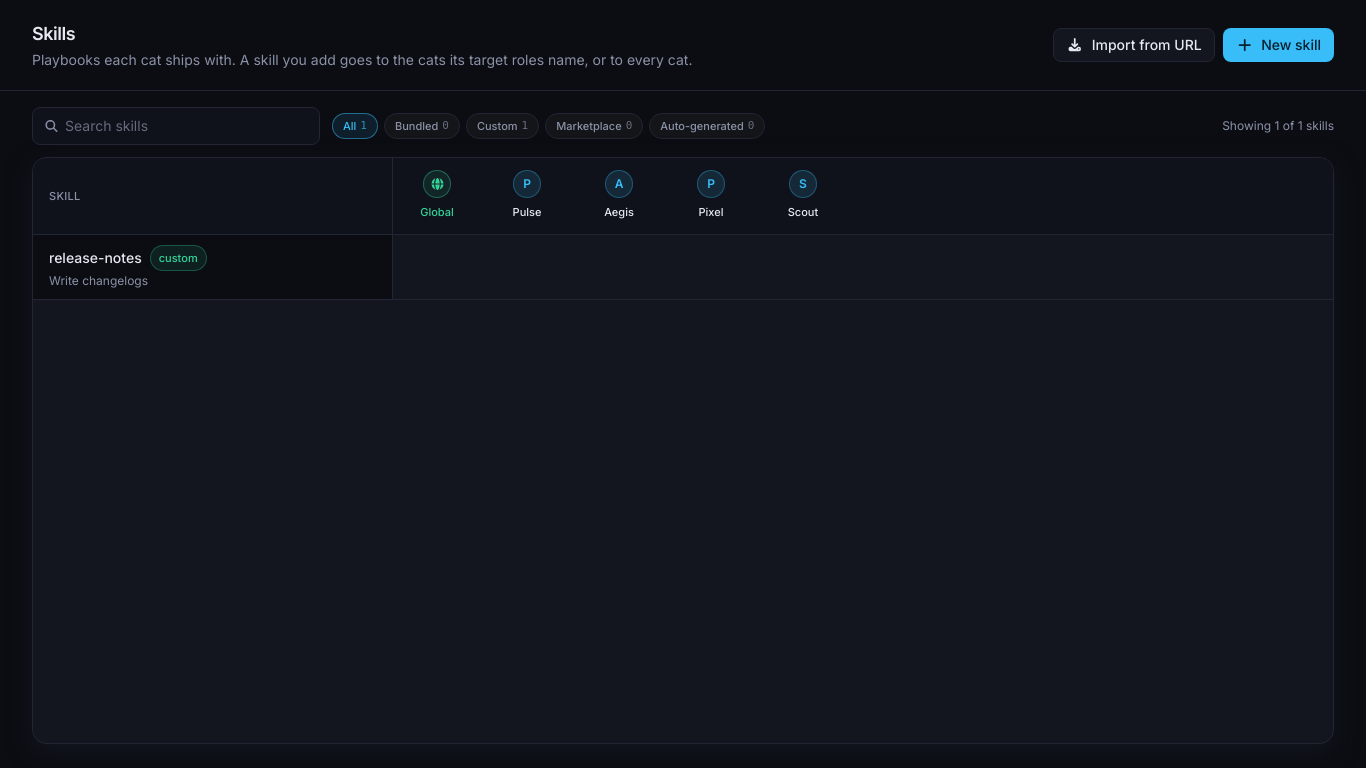
it: SkillsPage › dialogs › New skill shows the backend's error inline and stays open
expect the button with aria-label "Open release-notes" is shown: met, box x1=49 y1=245 x2=376 y2=289
Click the button "New skill" at (1278, 45), box x1=1223 y1=28 x2=1334 y2=62
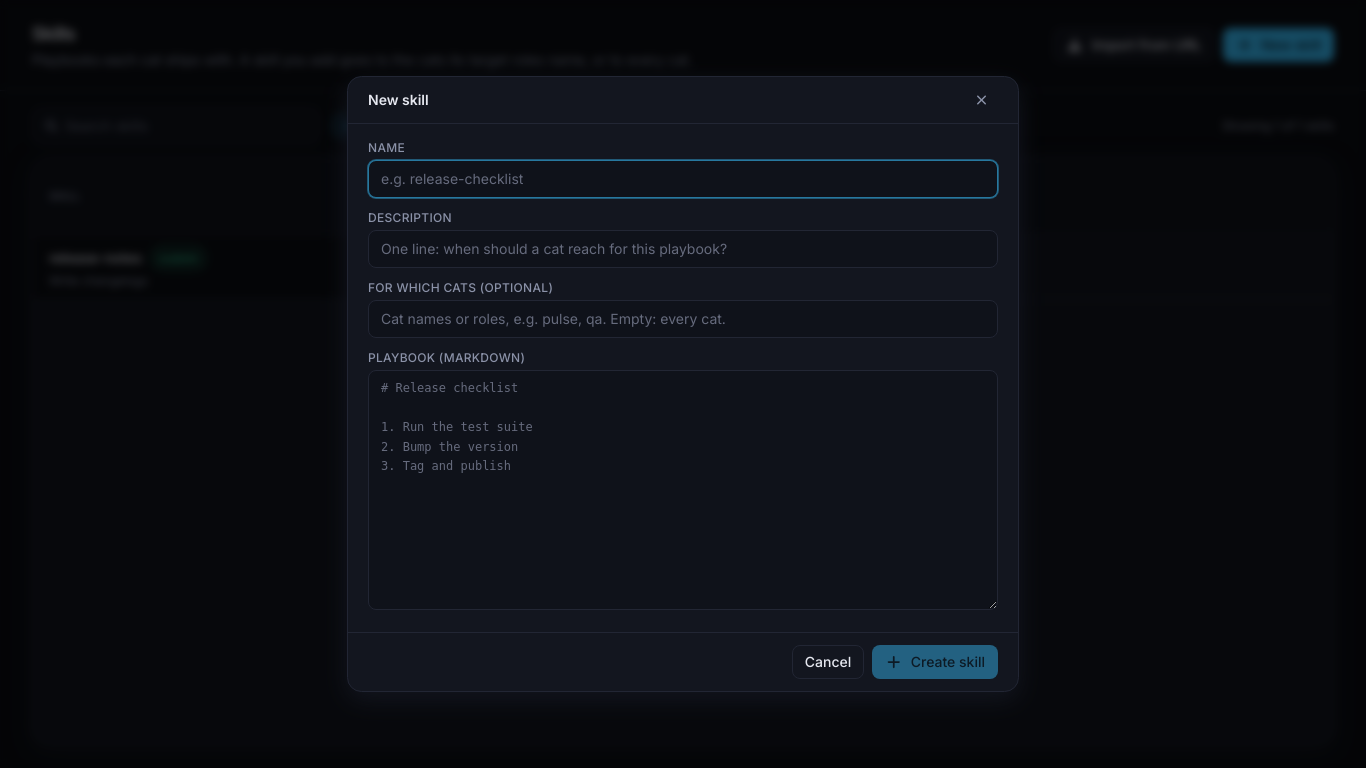
Type "release-notes" into the field labelled "Name" at (683, 179), box x1=368 y1=160 x2=998 y2=198
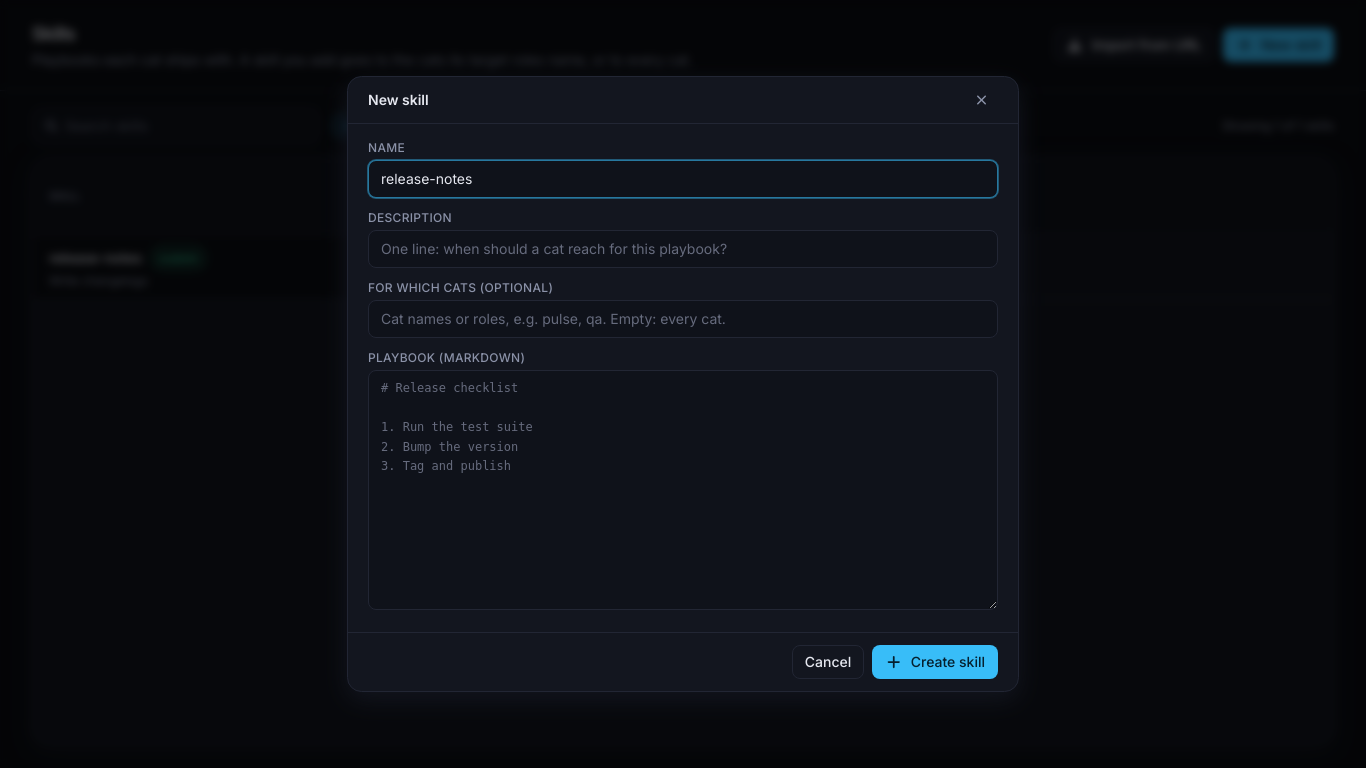
Click the button "Create skill" at (935, 662), box x1=872 y1=645 x2=998 y2=679
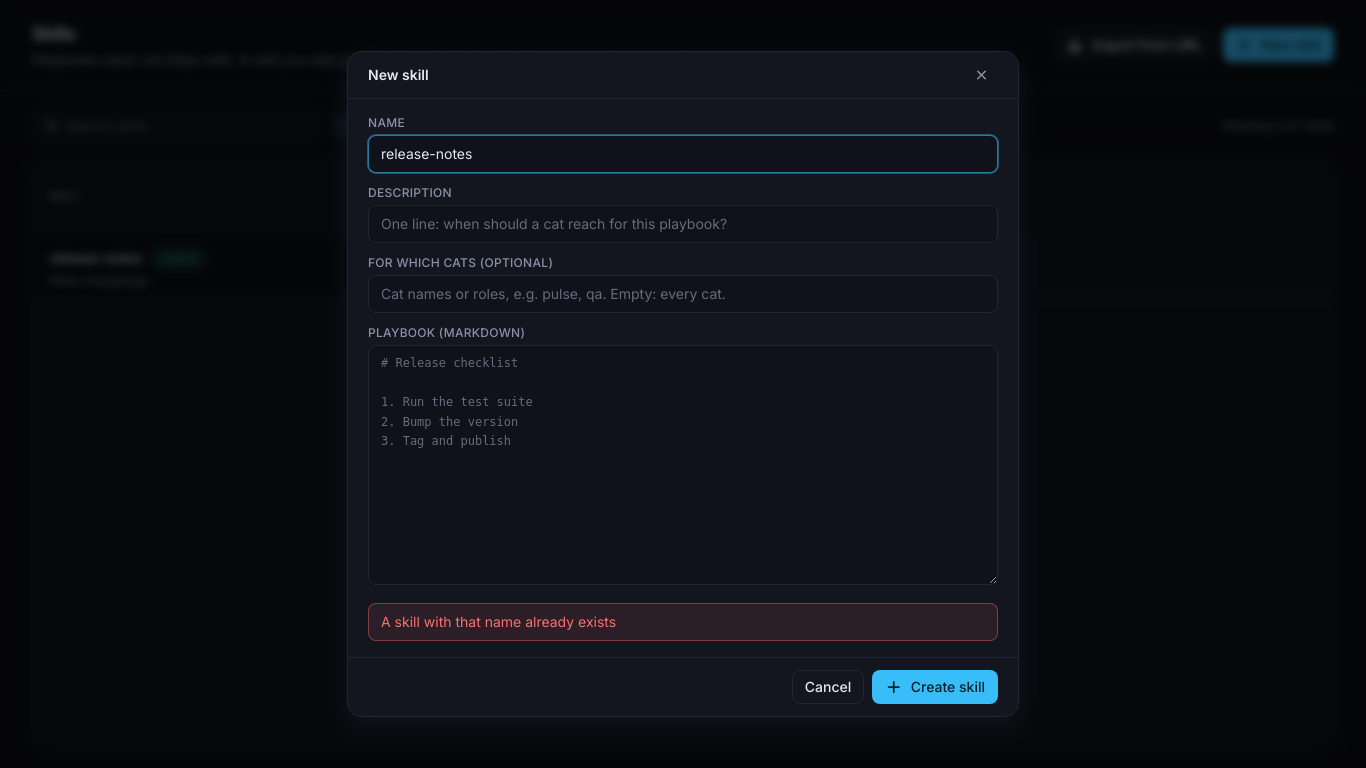
expect the message shows "already exists": met, box x1=381 y1=613 x2=616 y2=630
